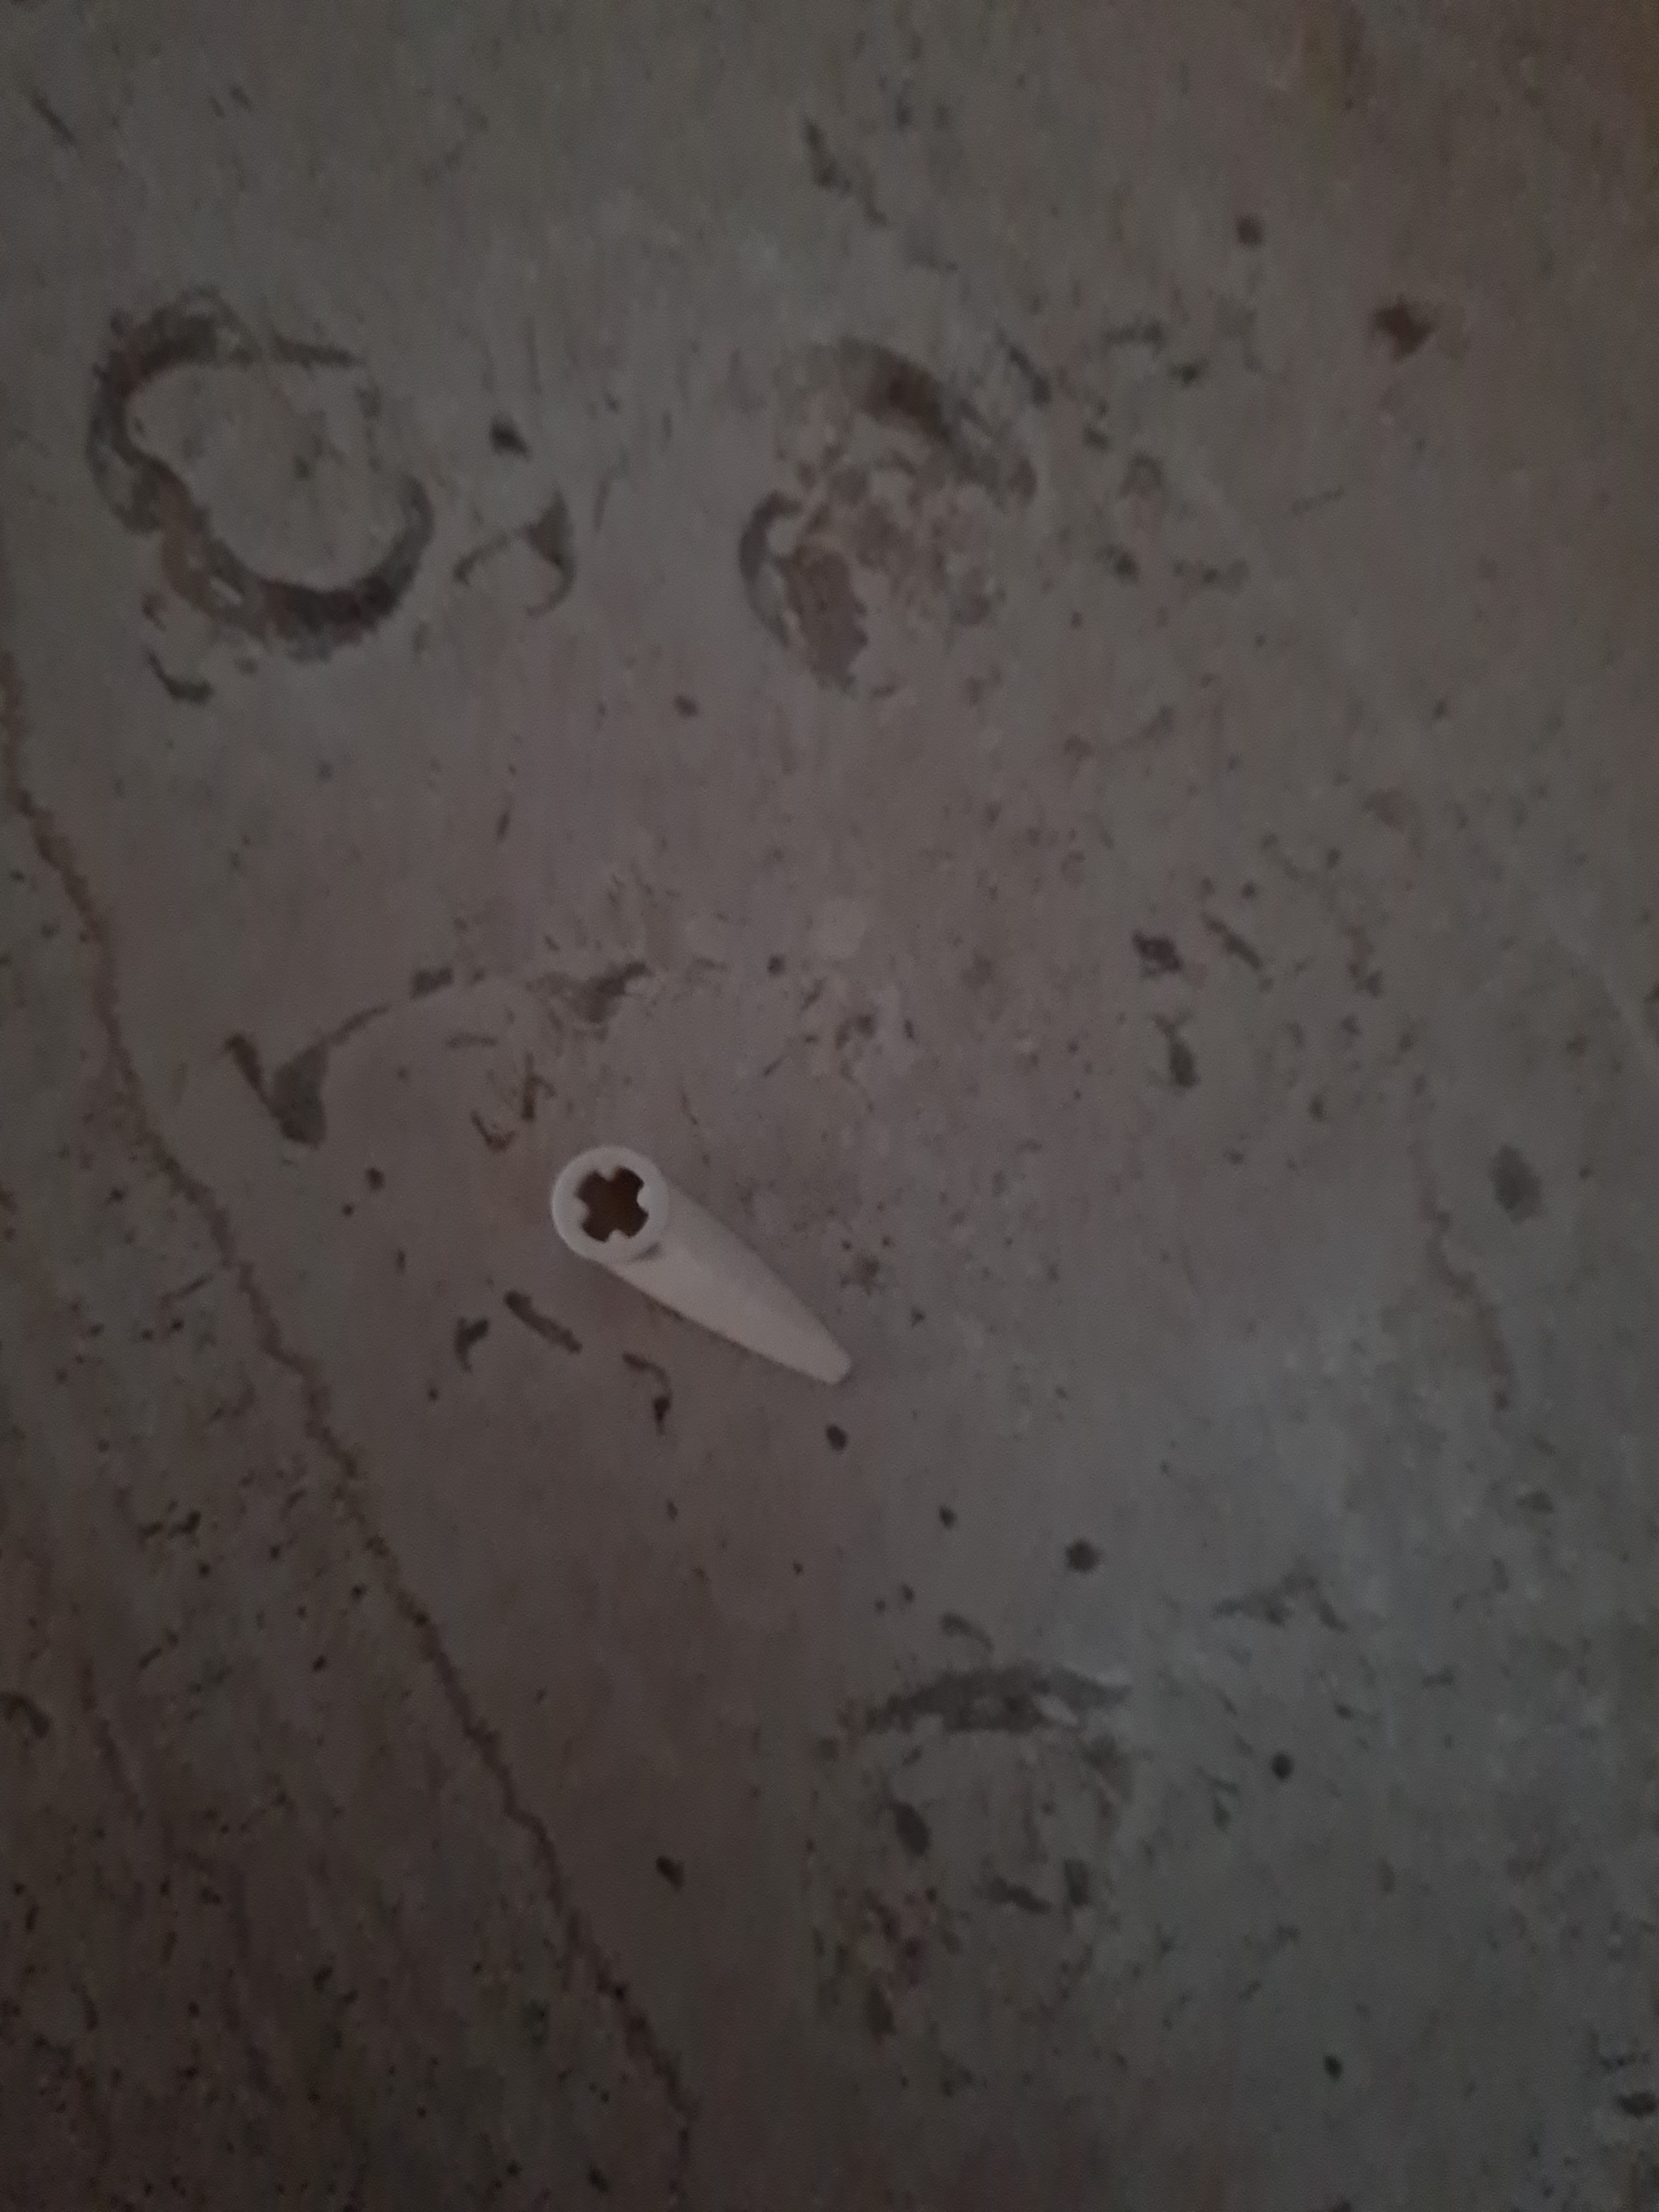Kappe: (547, 1141, 864, 1392)
